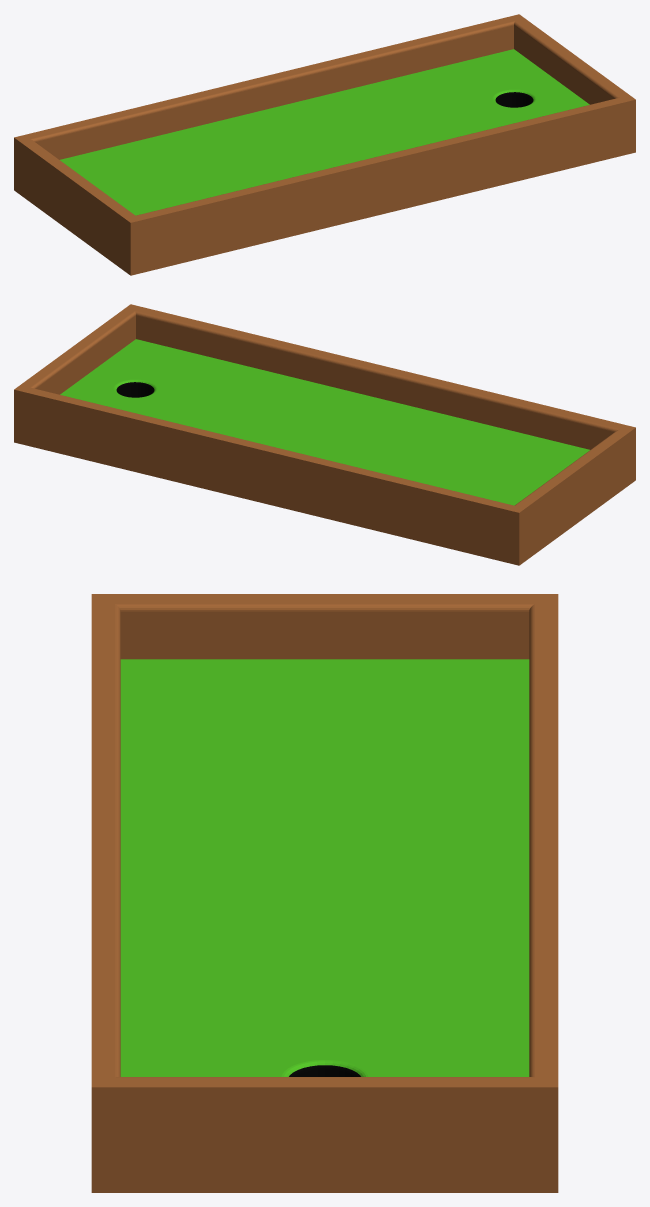
File: mini_golf.glb
3 views of the same model, one above another, from view 1: azimuth 30°, elevation 25°; view 2: azimuth 150°, elevation 25°; view 3: azimuth 270°, elevation 25° (orthographic). The views are drawn at different scales.
Visible parts, largest first — view 1: Floor, Wall; view 2: Floor, Wall; view 3: Floor, Wall.
Boxes of the visible parts, bbox=[...] form: Floor: bbox=[14, 49, 635, 275]; Wall: bbox=[14, 14, 635, 249]; Floor: bbox=[14, 339, 635, 565]; Wall: bbox=[14, 304, 635, 539]; Floor: bbox=[91, 659, 558, 1192]; Wall: bbox=[91, 594, 558, 1139].
Bounding box in the file's own units: 20 × 2 × 8.
